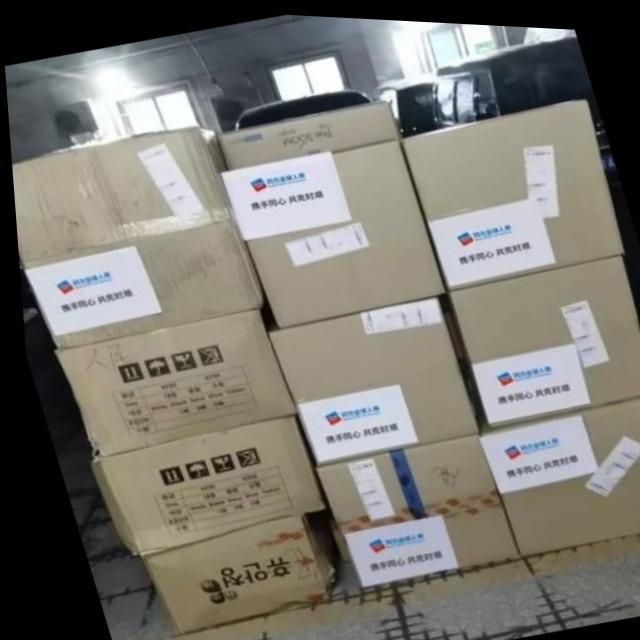box: (394, 94, 622, 286), (218, 132, 443, 324), (49, 301, 295, 456), (265, 290, 475, 458), (447, 246, 640, 421), (85, 415, 316, 557), (306, 426, 513, 583), (10, 123, 230, 265), (22, 219, 255, 347), (472, 394, 640, 550), (132, 507, 334, 635), (215, 94, 397, 167)
